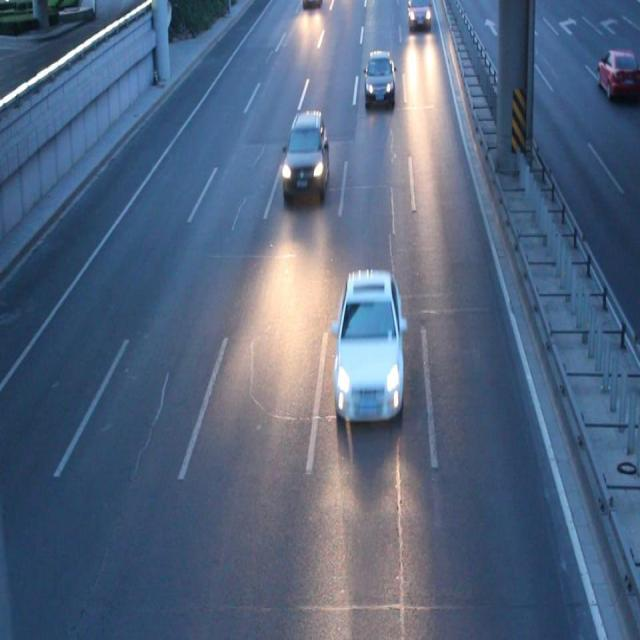car: (331, 268, 406, 424), (281, 110, 329, 199), (363, 51, 394, 108), (407, 1, 431, 31)
